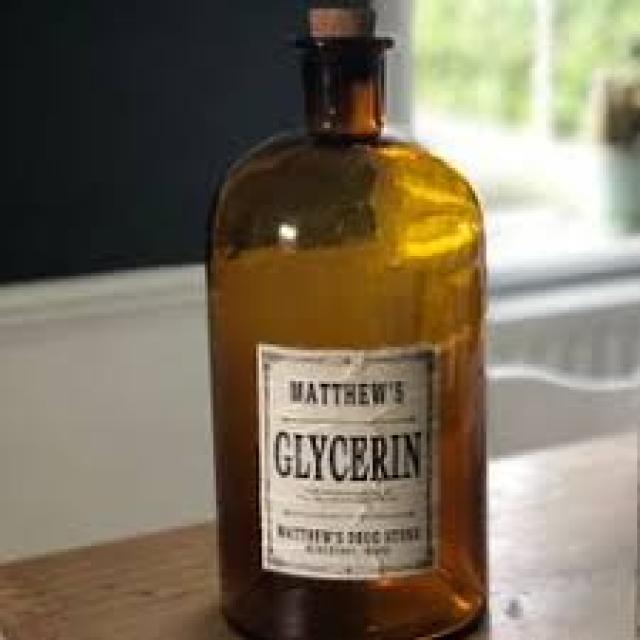glass: (202, 31, 484, 637)
